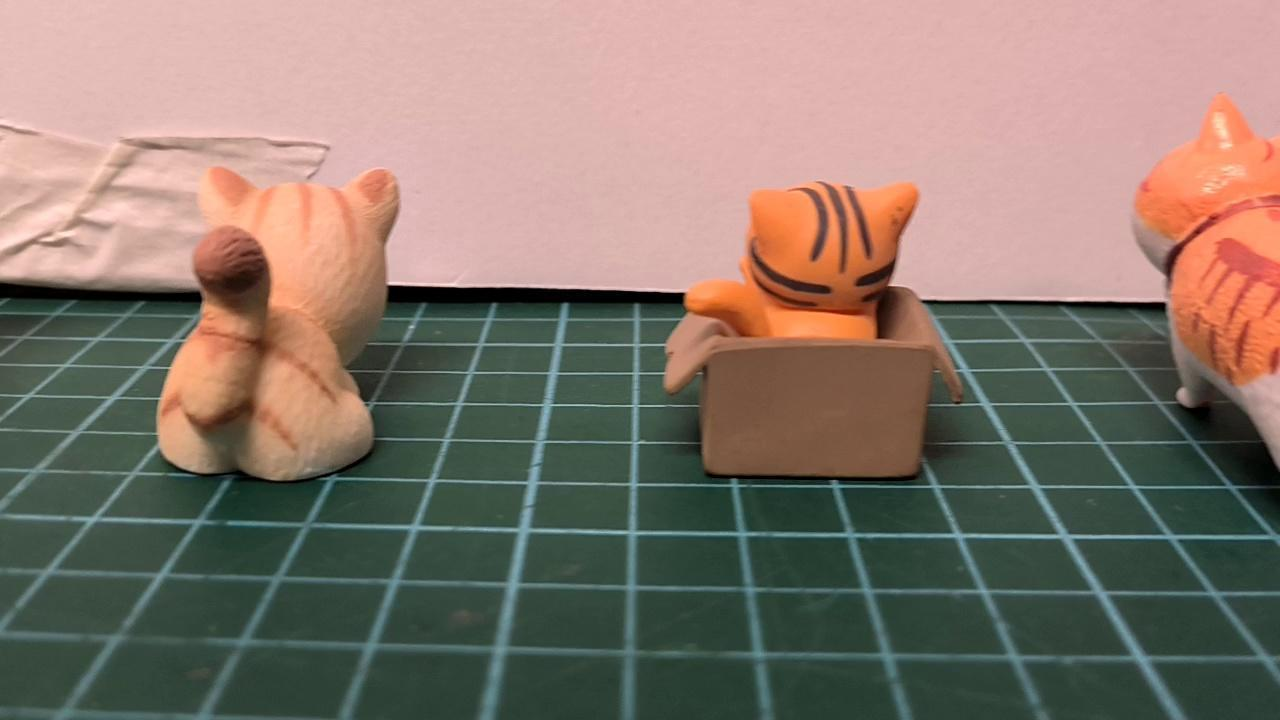pet: (147, 160, 407, 486), (676, 166, 930, 347)
